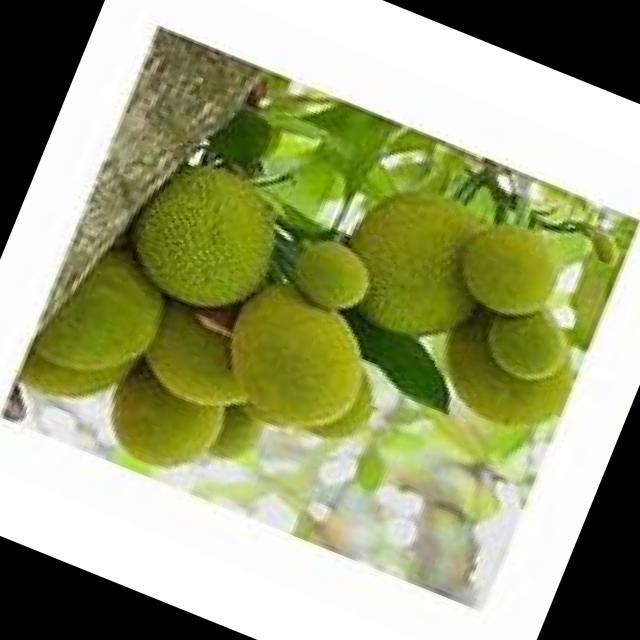Fruit: (298, 142, 583, 403), (172, 238, 420, 486), (102, 126, 312, 342)
